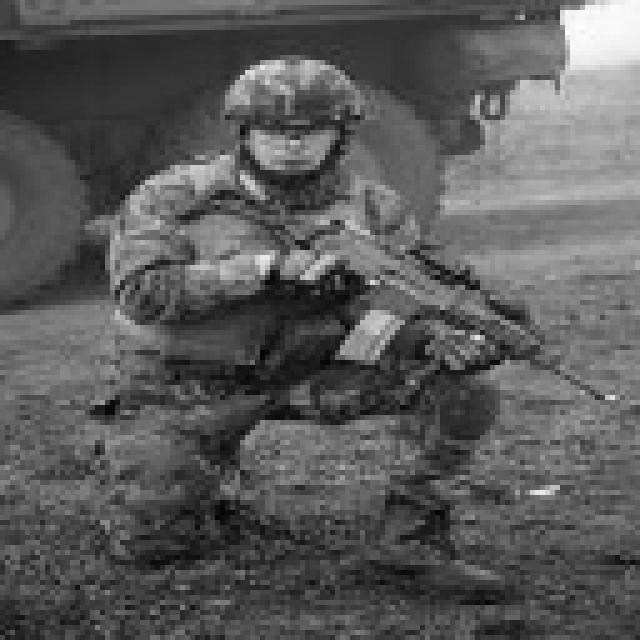Rifle: (168, 174, 632, 446)
